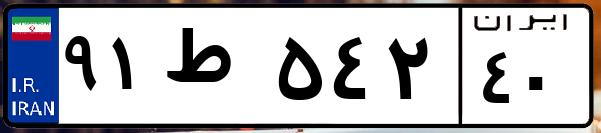0: (525, 38, 570, 115)
1: (110, 28, 158, 98)
2: (385, 28, 445, 110)
4: (330, 28, 385, 110), (475, 38, 525, 113)
5: (270, 28, 330, 110)
9: (57, 26, 110, 100)
ط: (158, 20, 270, 120)
